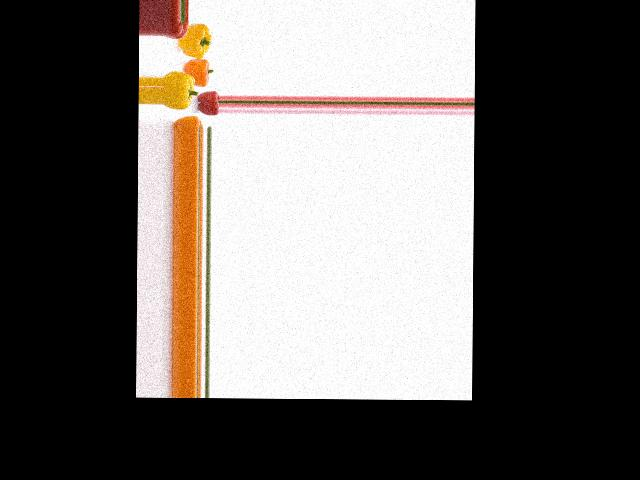bell_pepper: (173, 114, 204, 128)
